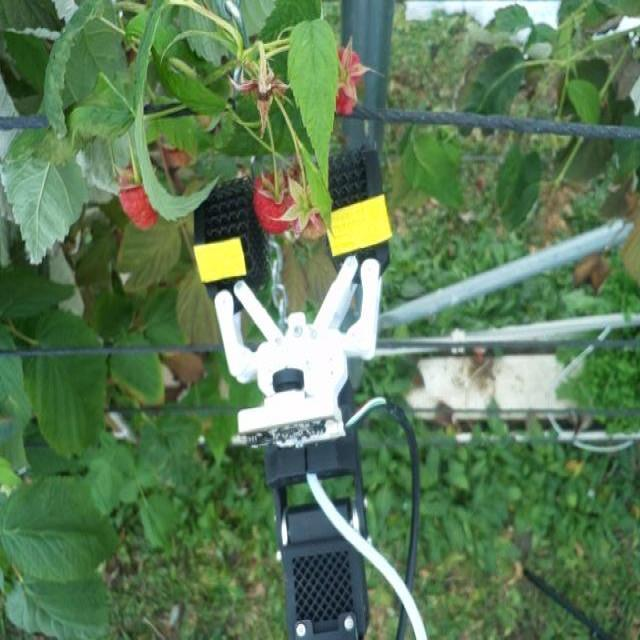Riped berries: (324, 39, 366, 118), (251, 163, 299, 231), (118, 168, 162, 232)
